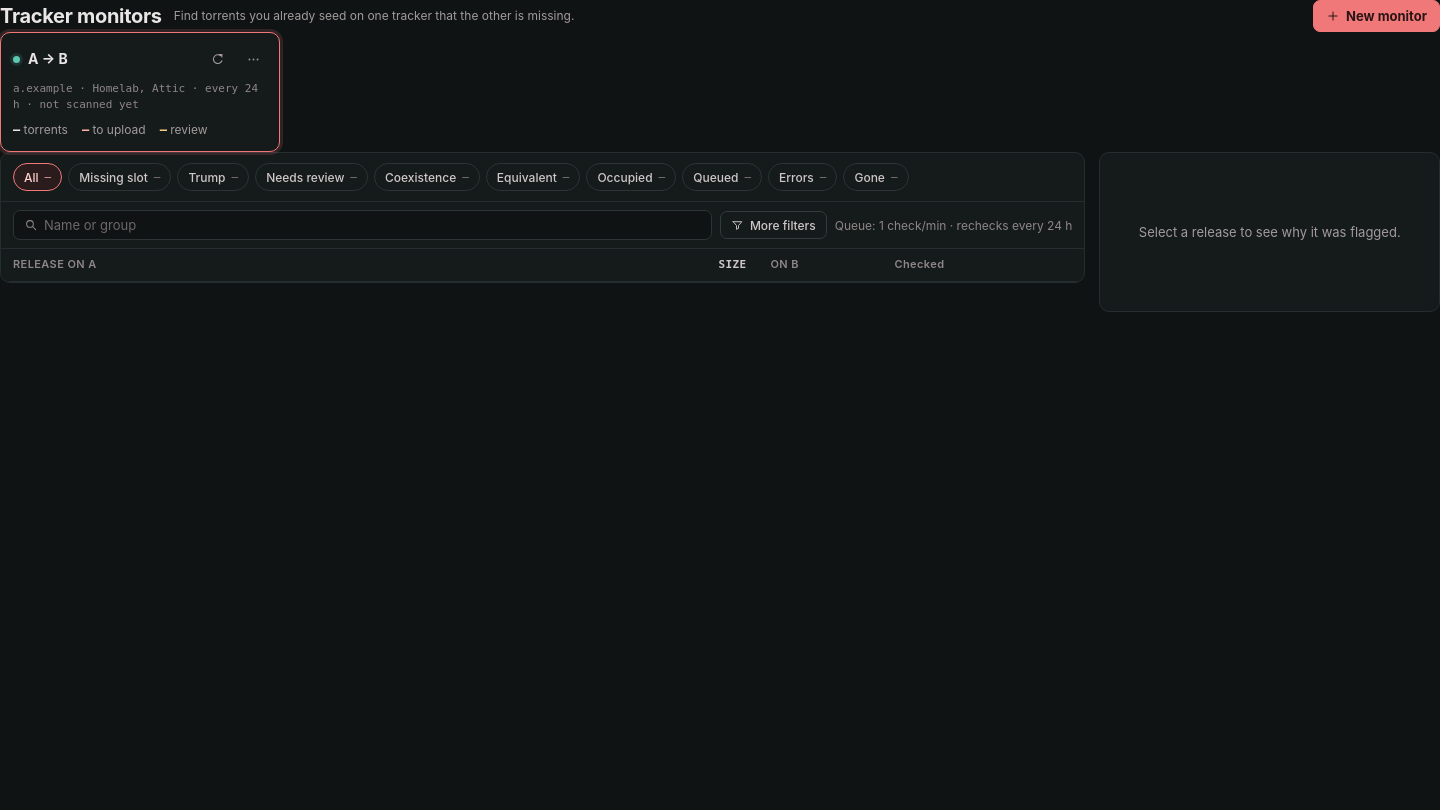
keeps instances already on a monitor while they are offline
Press ArrowDown in the button named "Monitor options", box [239,45,267,73]
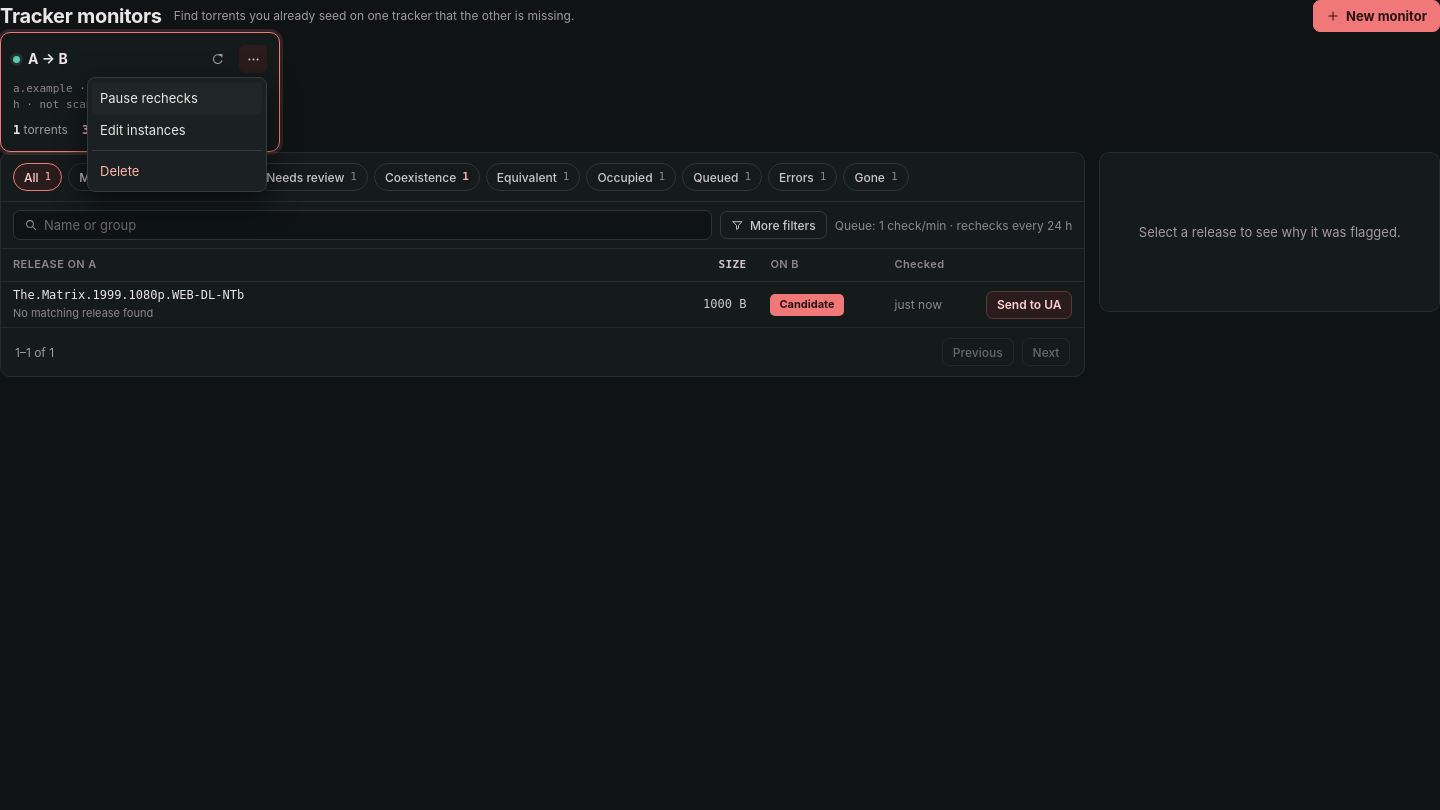
Click the menu item "Edit instances" at [143, 130], box [100,122,186,138]
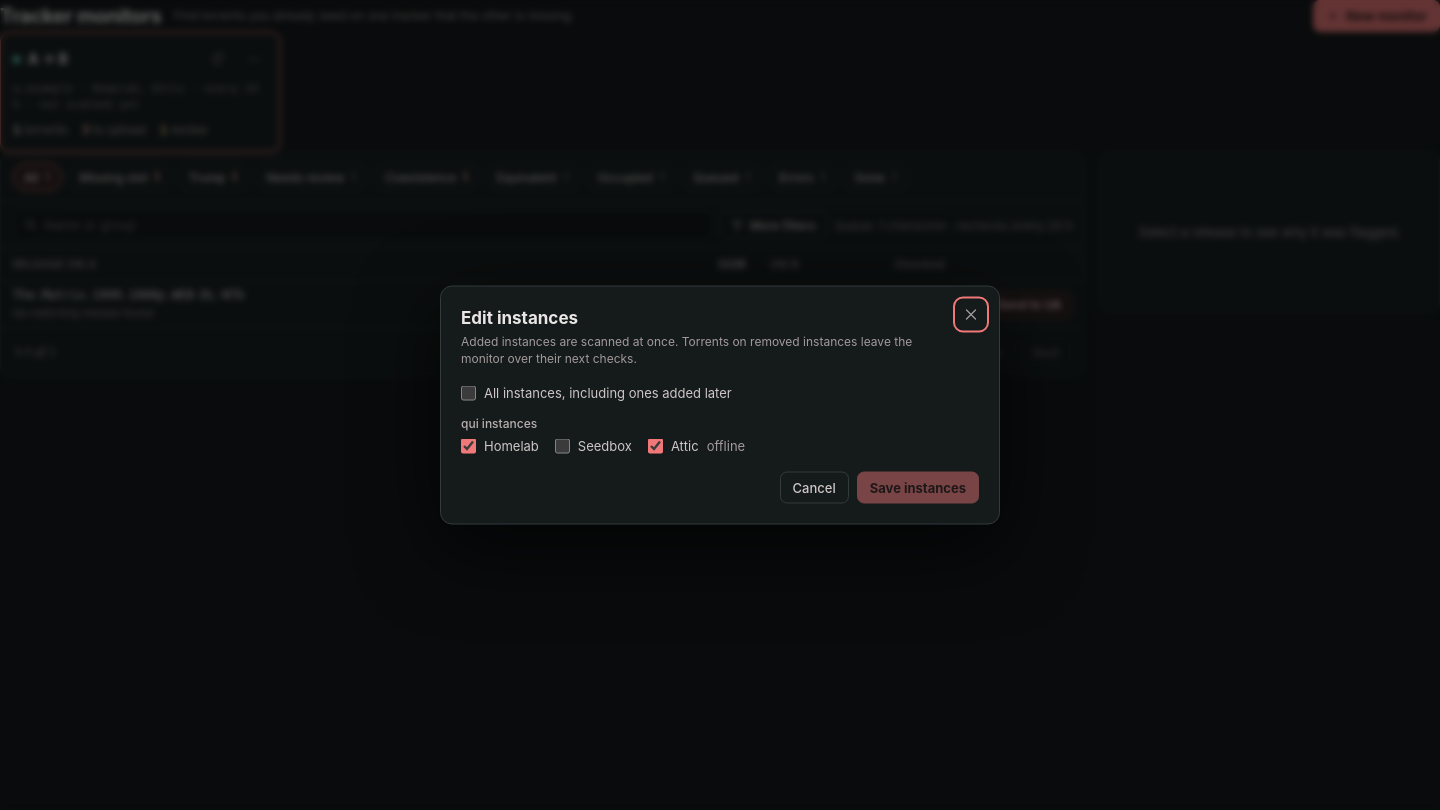
Expected: the text "Added instances are scanned at once." is shown, [461,334,912,366]
Expected: the checkbox labelled "Attic offline" is checked, [648,439,663,454]
Expected: the checkbox labelled "Homelab" is checked, [461,439,476,454]
Click the checkbox labelled "Seedbox" at [562, 446], box [555,439,570,454]
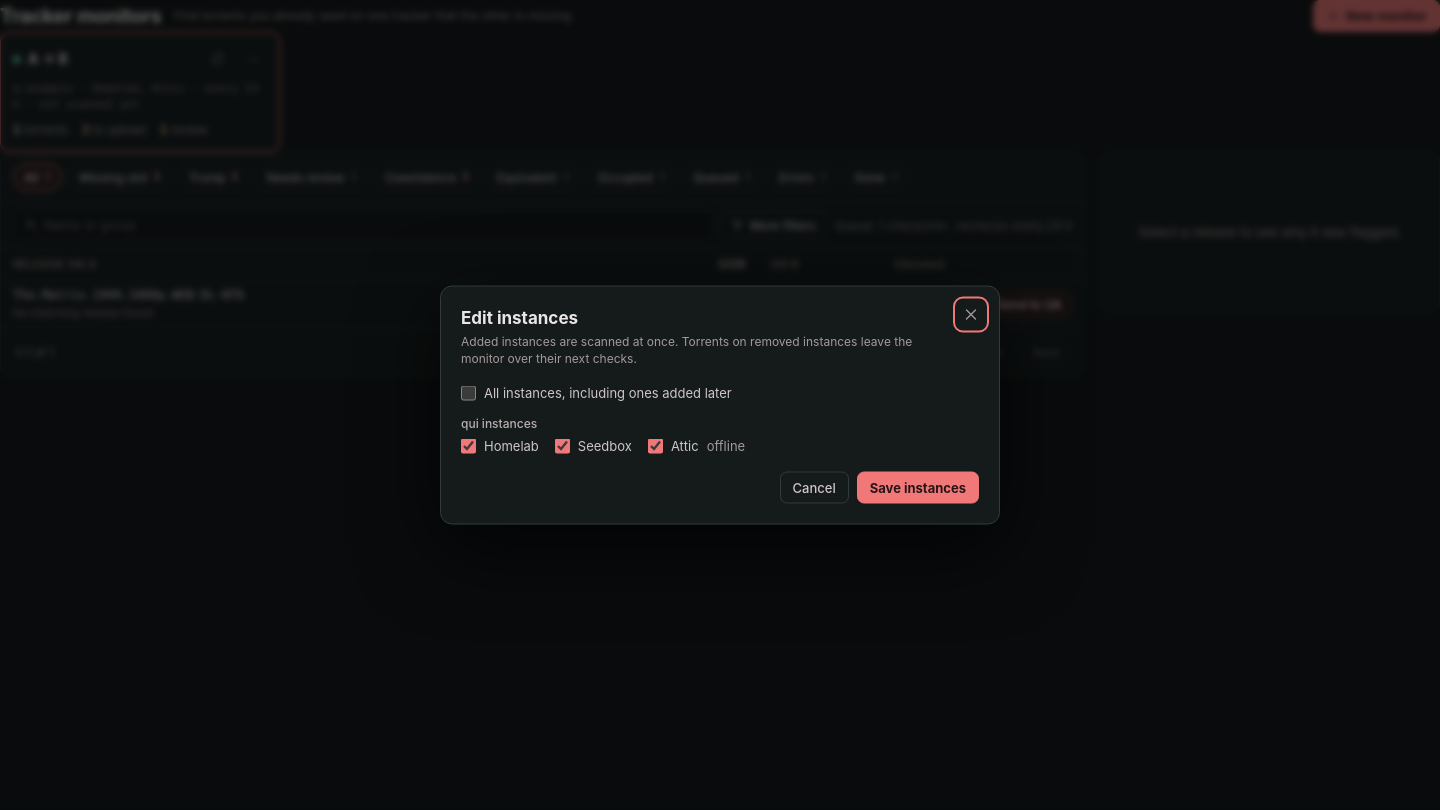
Click the button "Save instances" at [918, 488], box [857,472,979,504]
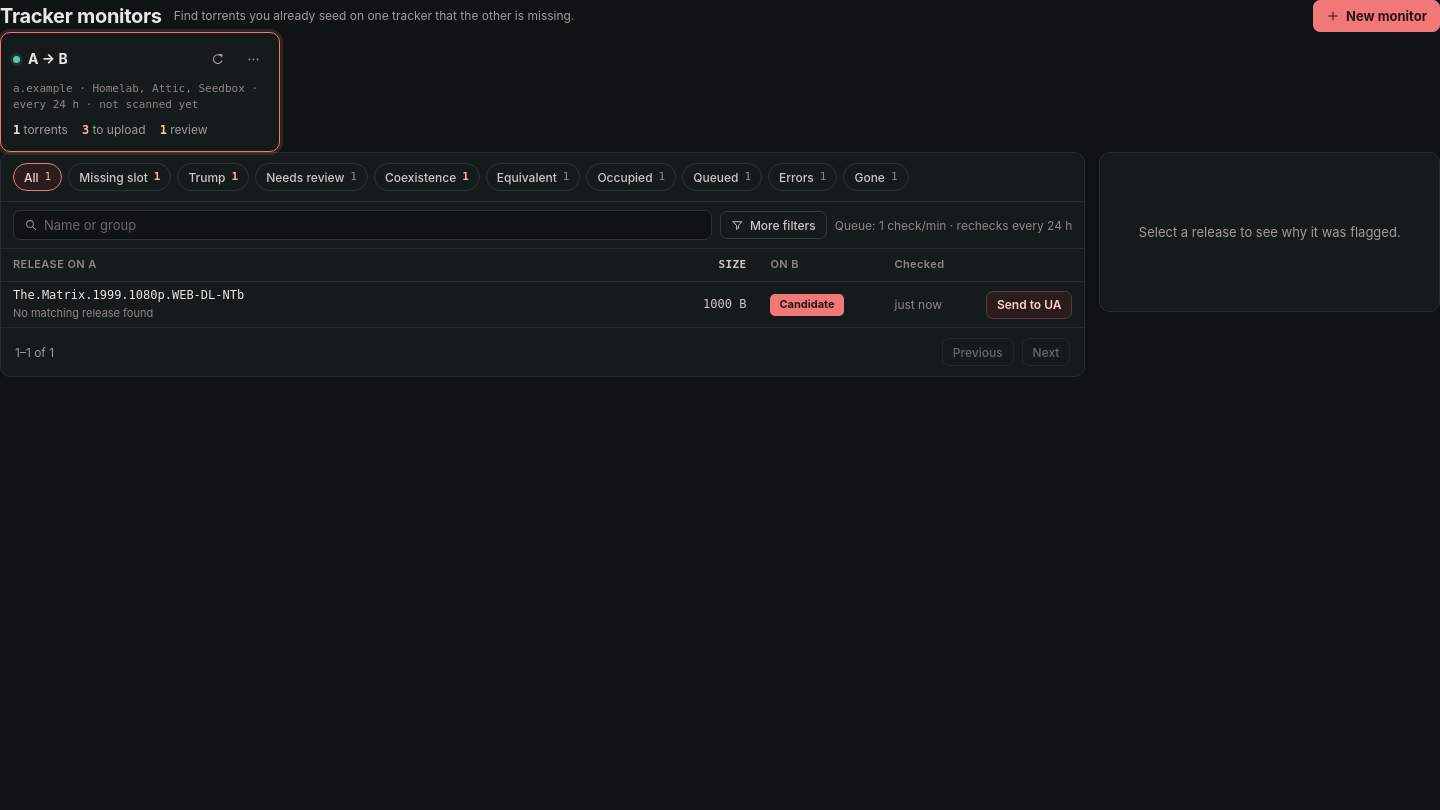
Expected: the dialog is gone
